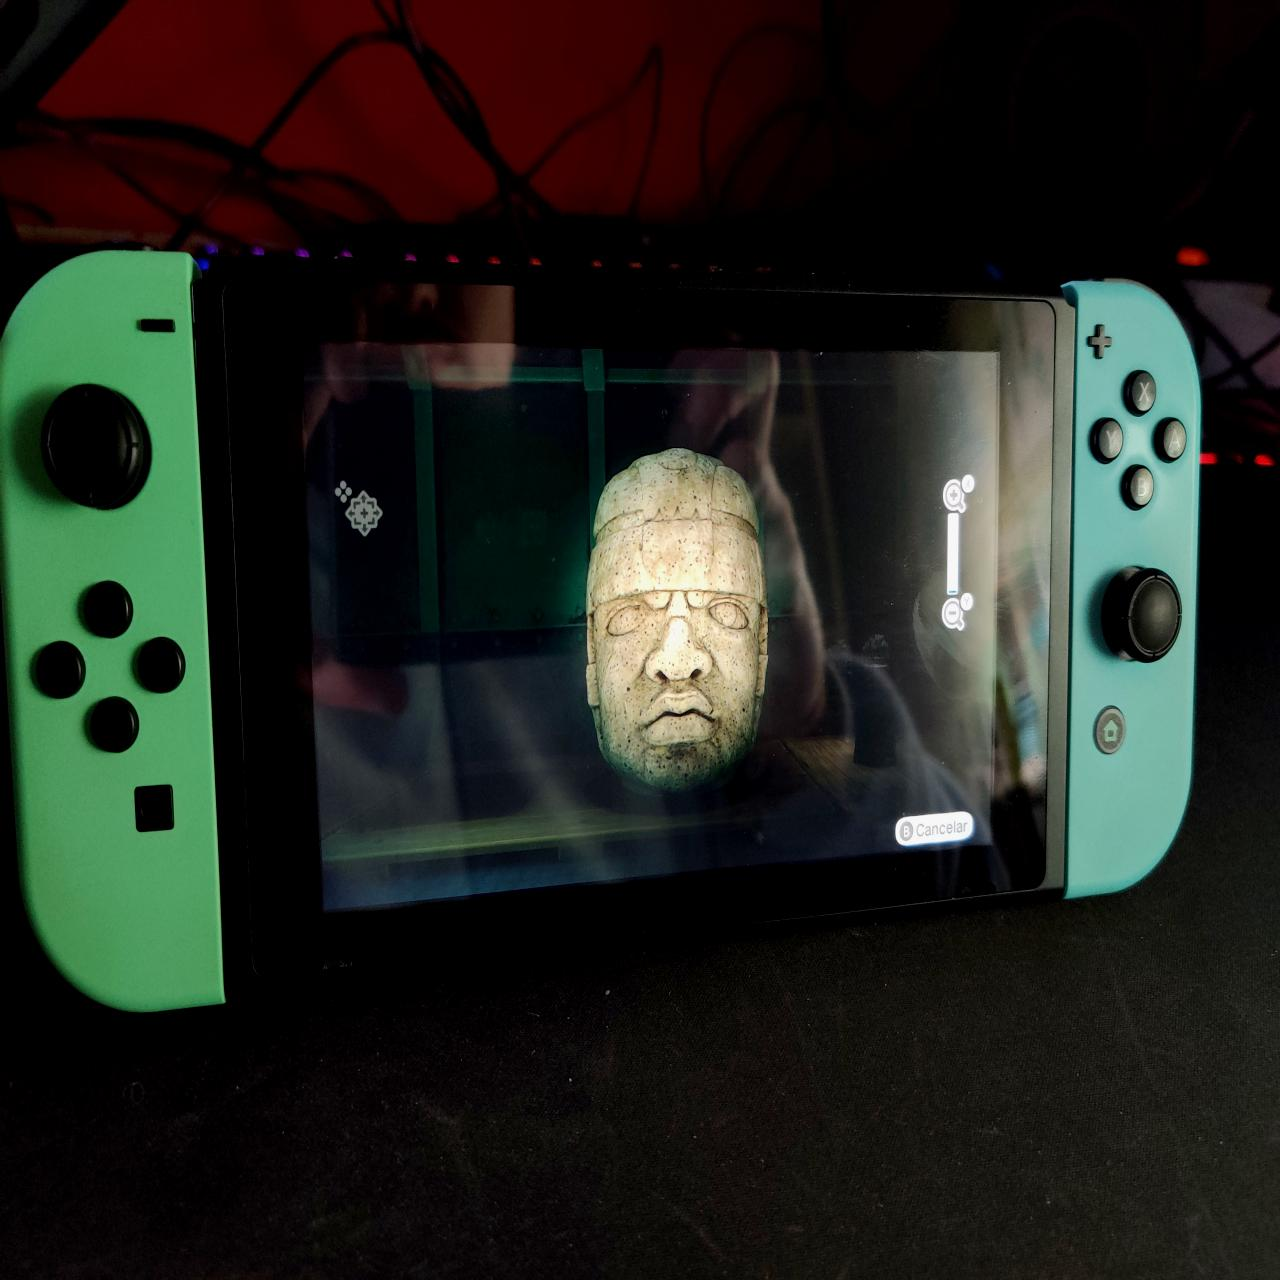OlmecaHead: (580, 445, 775, 799)
